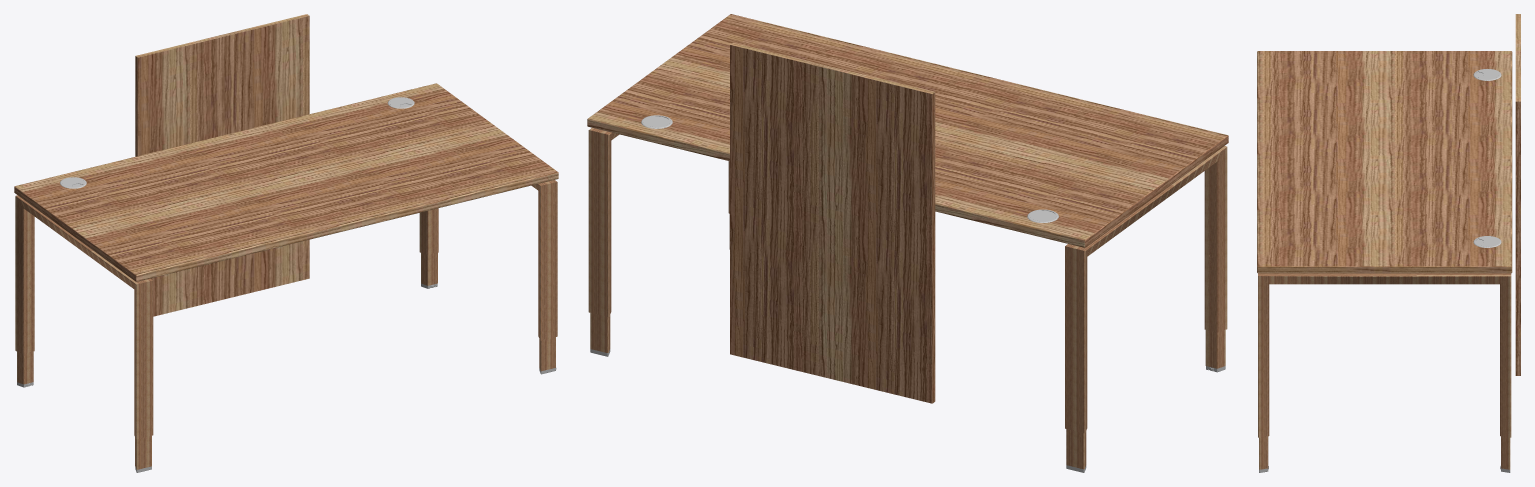
The model's file is rectangle_160x80_shield_center_finala.fbx.
3 renders of one model, left to right at view 1: azimuth 30°, elevation 25°; view 2: azimuth 150°, elevation 25°; view 3: azimuth 270°, elevation 25°, orthographic. The views are drawn at different scales.
Parts seen in each view (by area): view 1: blat_mesh, drewno_meh, metal_nogi_mesh; view 2: drewno_meh, blat_mesh, metal_nogi_mesh, zaslepki_mesh; view 3: blat_mesh, metal_nogi_mesh, drewno_meh, zaslepki_mesh.
Boxes of the visible parts, x1,y1,x2,y2 form: blat_mesh: (14,83,558,281); drewno_meh: (135,14,309,316); metal_nogi_mesh: (15,180,557,469); drewno_meh: (730,43,935,403); blat_mesh: (587,14,1228,247); metal_nogi_mesh: (588,128,1227,469); zaslepki_mesh: (641,115,1058,222); blat_mesh: (1257,51,1512,273); metal_nogi_mesh: (1258,273,1511,469); drewno_meh: (1515,14,1520,375); zaslepki_mesh: (1473,69,1501,247).
Size of the model in its own units: 160 by 107 by 82.73.
